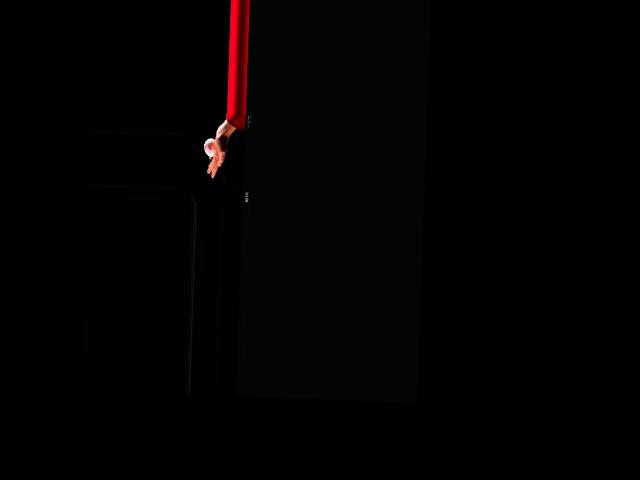egg: (203, 137, 216, 156)
